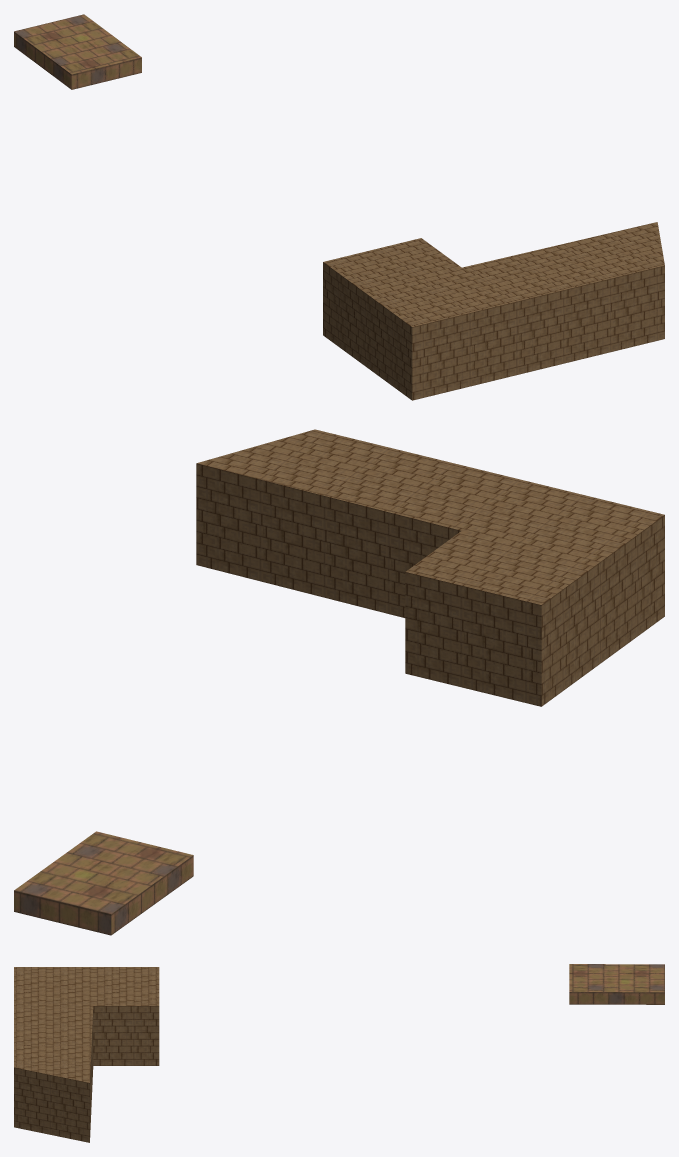
File: FloorsReimport2.fbx
3 views of the same model, one above another, from view 1: azimuth 30°, elevation 25°; view 2: azimuth 150°, elevation 25°; view 3: azimuth 270°, elevation 25° (orthographic). The views are drawn at different scales.
Visible parts, largest first — view 1: PolyShape__17_, PolyShape__7_; view 2: PolyShape__17_, PolyShape__7_; view 3: PolyShape__17_, PolyShape__7_.
Part boxes in pixels (<box>): PolyShape__17_: <box>323,222,664,400</box>; PolyShape__7_: <box>14,14,141,89</box>; PolyShape__17_: <box>196,429,664,706</box>; PolyShape__7_: <box>14,831,193,935</box>; PolyShape__17_: <box>14,967,159,1142</box>; PolyShape__7_: <box>569,964,664,1004</box>.
Bounding box in the file's own units: 20.79 × 5.24 × 49.23.
Materials: 2 (2 with a texture image).
